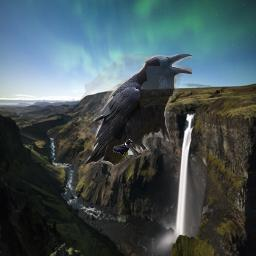Crow: (79, 54, 192, 171), (113, 139, 133, 157)
